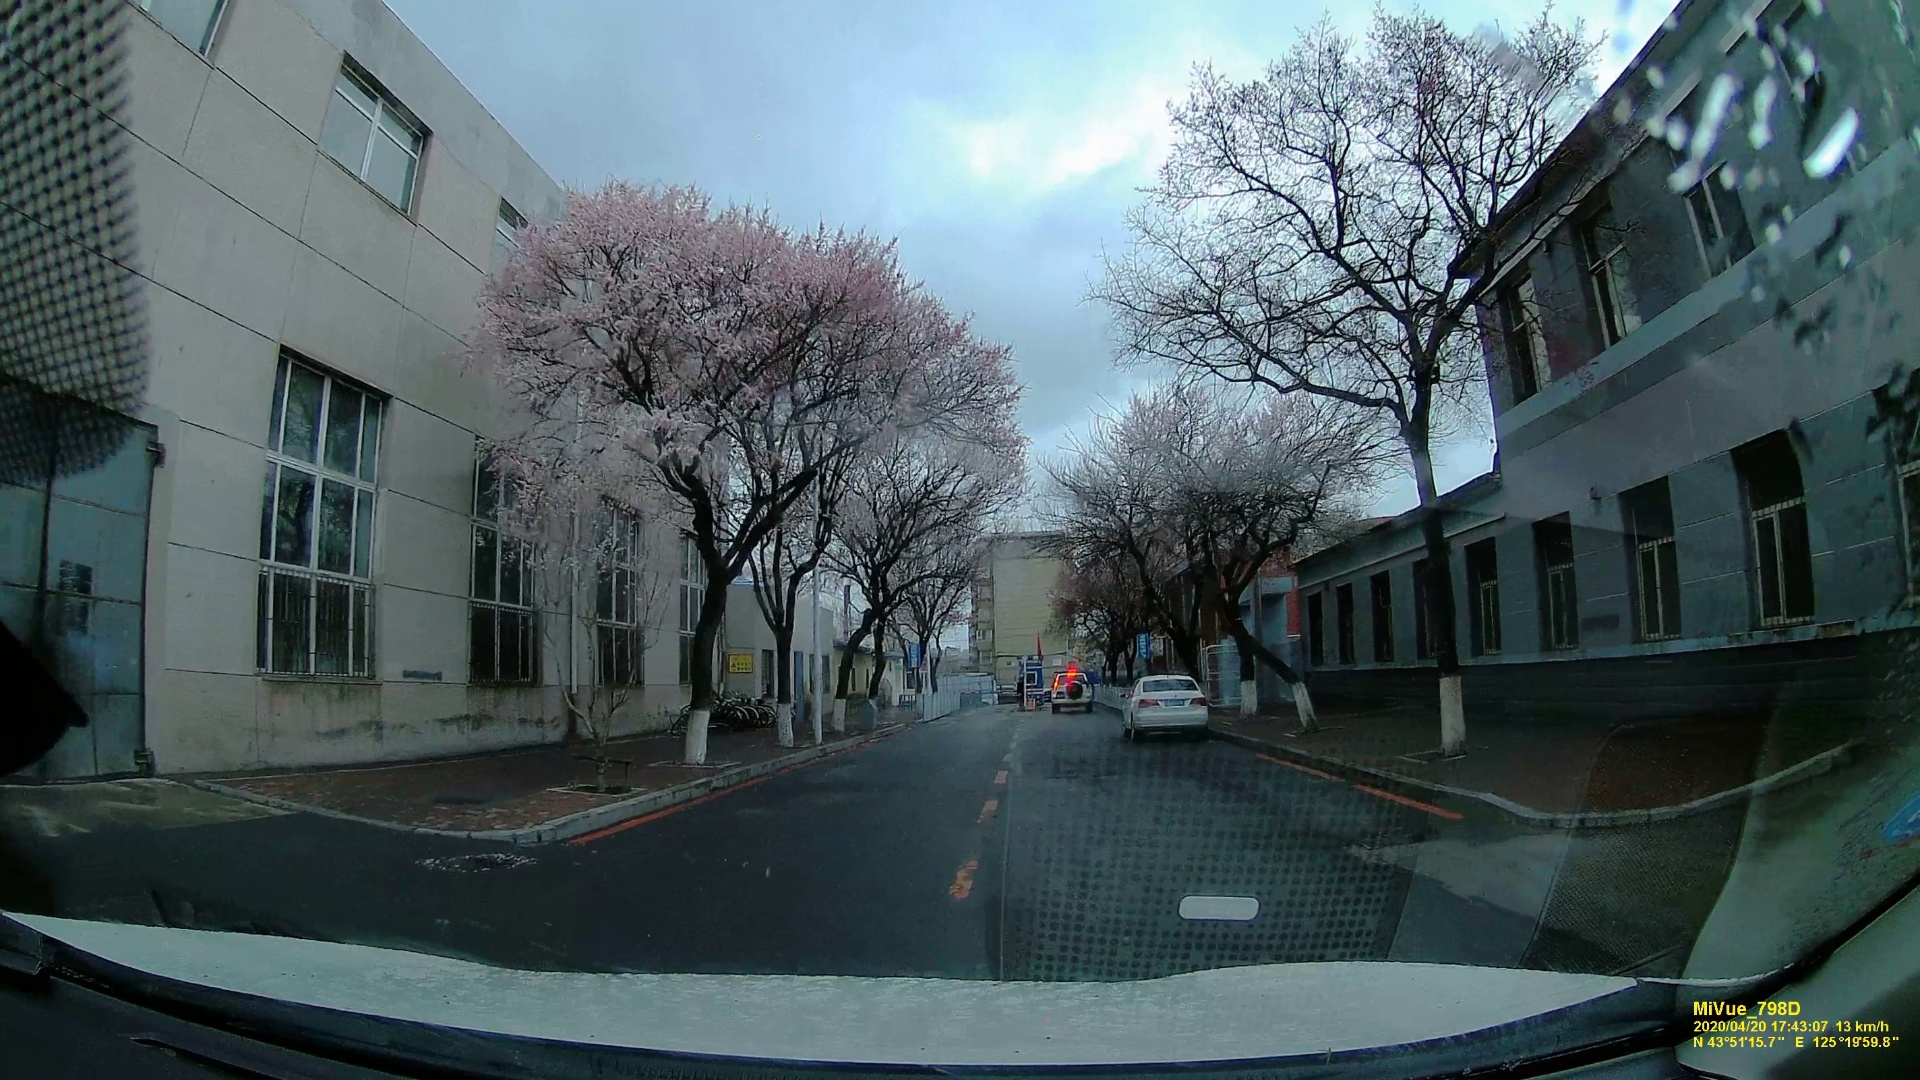vehicle: (1122, 674, 1211, 740), (1044, 669, 1098, 712)
